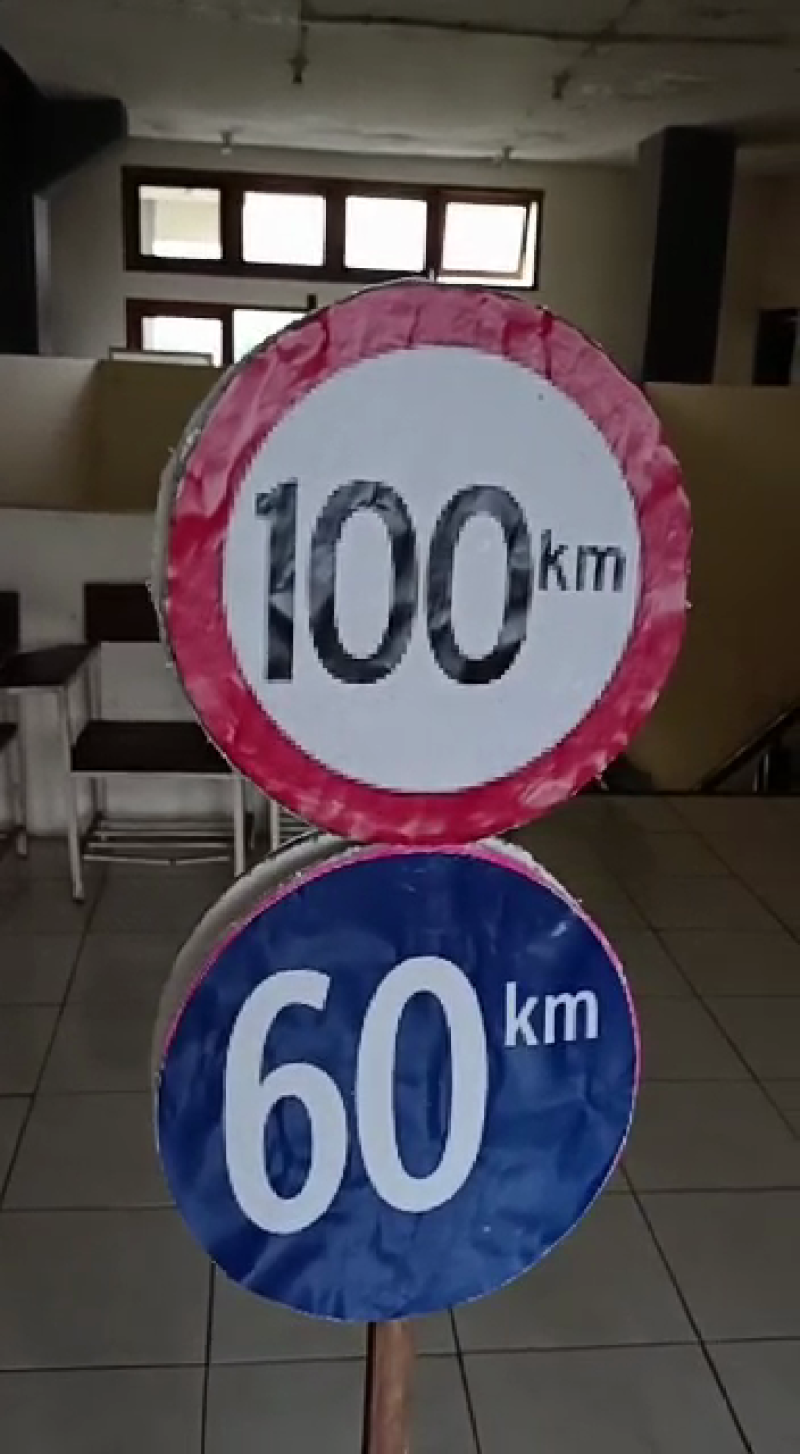batas maksimal 100kmperjam minimal 60kmperjam: (131, 269, 715, 1340)
